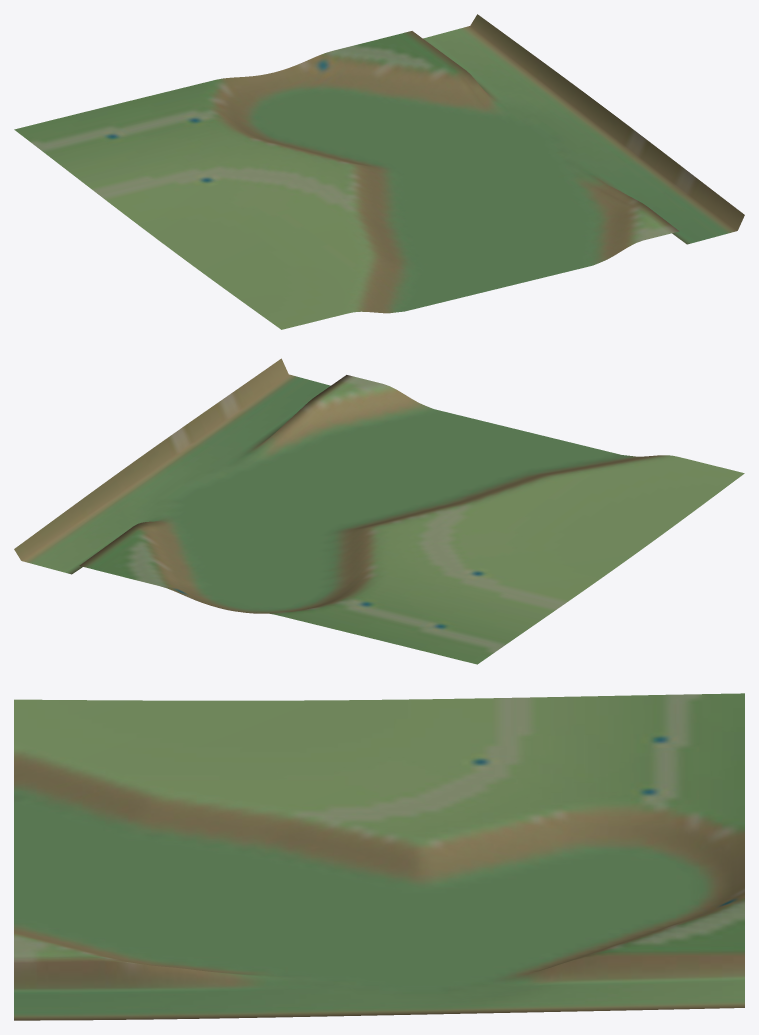
File: terrain_T_W04_N04.glb
3 views of the same model, one above another, from view 1: azimuth 30°, elevation 25°; view 2: azimuth 150°, elevation 25°; view 3: azimuth 270°, elevation 25° (orthographic). The views are drawn at different scales.
Visible parts, largest first — view 1: Terrain_T_W04_N04; view 2: Terrain_T_W04_N04; view 3: Terrain_T_W04_N04.
Boxes of the visible parts, x1,y1,x2,y2 form: Terrain_T_W04_N04: [14, 14, 744, 329]; Terrain_T_W04_N04: [14, 358, 744, 664]; Terrain_T_W04_N04: [14, 693, 744, 1020].
Size of the model in its own units: 2000 by 84.99 by 2000.
Materials: 1 (1 with a texture image).
